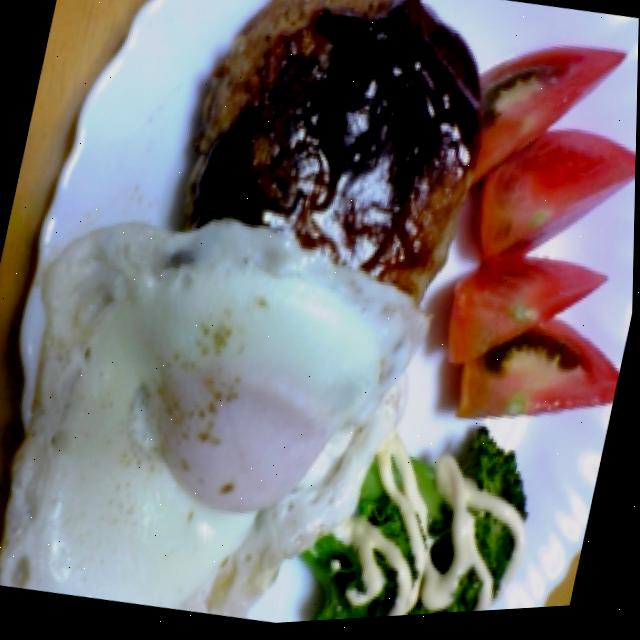鸡蛋料理: (0, 215, 472, 640)
